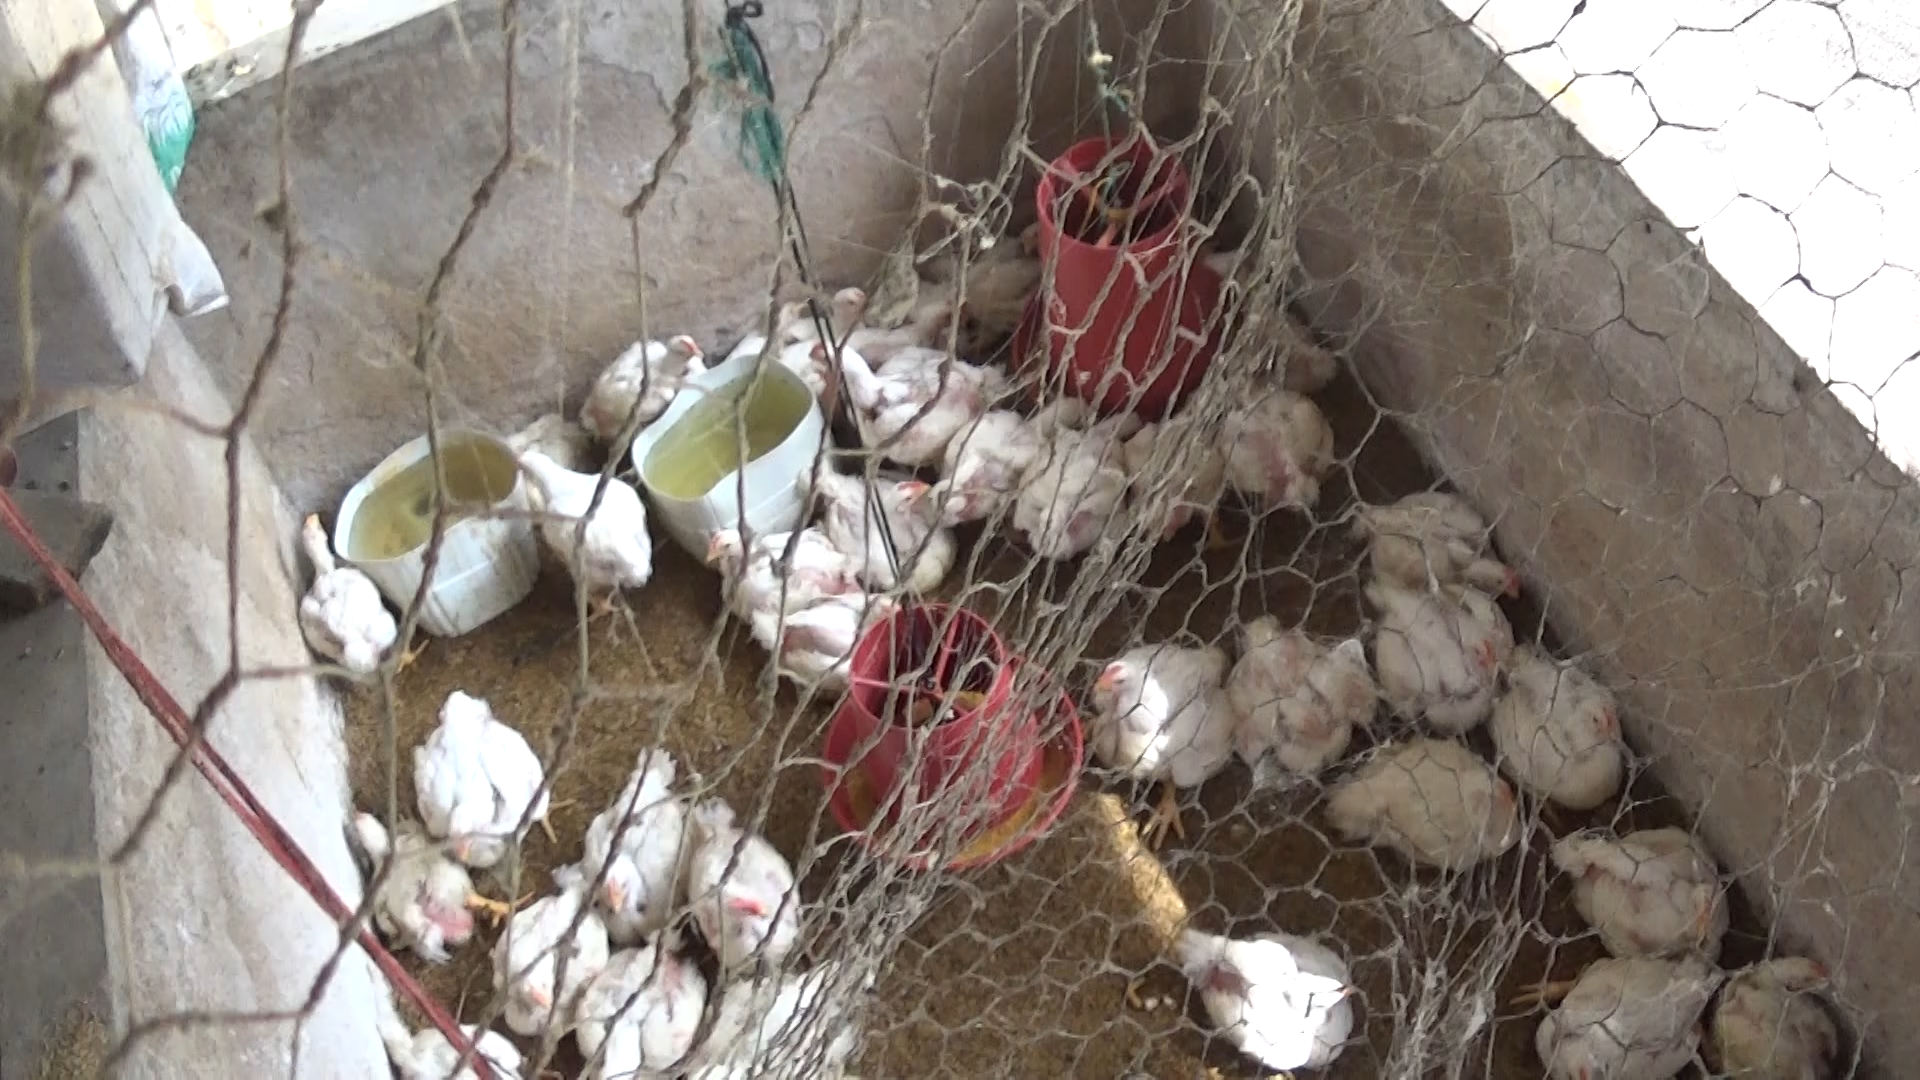Pollos: (1211, 615, 1386, 785), (1171, 927, 1366, 1073), (1320, 738, 1526, 873), (807, 331, 1004, 471), (1534, 942, 1721, 1077), (1085, 636, 1240, 800), (517, 448, 655, 616), (407, 694, 549, 856), (1495, 646, 1636, 803), (1375, 578, 1511, 727), (1567, 825, 1730, 948), (1021, 405, 1147, 560), (485, 878, 599, 1047), (684, 814, 808, 968), (349, 803, 473, 957), (938, 386, 1085, 516), (1364, 487, 1526, 601), (582, 775, 696, 938), (1712, 948, 1850, 1080), (808, 465, 955, 589), (1218, 373, 1342, 517), (582, 938, 703, 1073), (574, 328, 703, 442), (709, 514, 847, 613), (823, 278, 868, 328)
